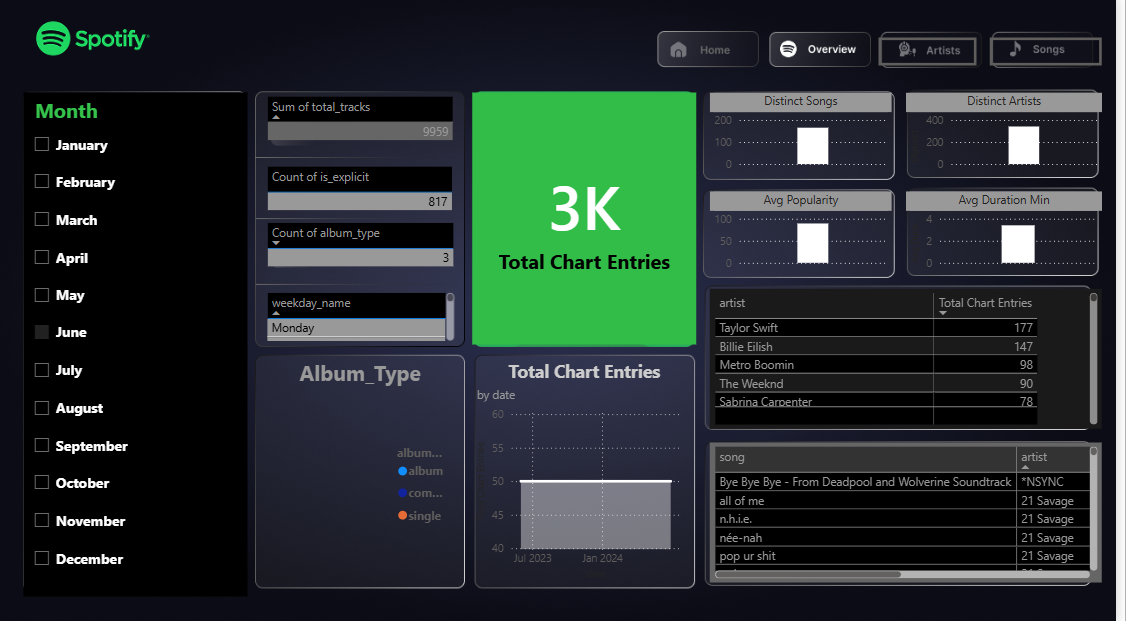

The page's visual inventory and layout, read from the dashboard file:
{"tool":"powerbi","page":{"name":"Overview","canvas":[1280,720],"ordinal":1},"visuals":[{"type":"slicer","fields":{"Values":["dim_dates.month_name"]},"box":[32,112,256,576],"z":3000},{"type":"cardVisual","fields":{"Data":["_Measures.Total Chart Entries"]},"box":[544,112,256,288],"z":3001},{"type":"tableEx","fields":{"Values":["dim_songs.is_explicit"]},"box":[304,192,224,64],"z":3003},{"type":"tableEx","fields":{"Values":["dim_songs.album_type"]},"box":[304,256,224,64],"z":3004},{"type":"donutChart","title":"Album_Type","fields":{"Category":["dim_songs.album_type"]},"box":[304,416,224,256],"z":3006},{"type":"areaChart","fields":{"Category":["dim_dates.date"],"Y":["_Measures.Total Chart Entries"]},"box":[544,416,256,256],"z":3008},{"type":"clusteredColumnChart","fields":{"Y":["_Measures.Distinct Artists"]},"box":[1040,112,224,96],"z":3009},{"type":"clusteredColumnChart","fields":{"Y":["_Measures.Avg Popularity"]},"box":[816,224,208,96],"z":3010},{"type":"clusteredColumnChart","fields":{"Y":["_Measures.Avg Duration Min"]},"box":[1040,224,224,96],"z":3011},{"type":"tableEx","fields":{"Values":["dim_songs.song","dim_songs.artist","dim_songs.album_type","dim_songs.duration_ms"]},"box":[816,512,448,160],"z":3013},{"type":"tableEx","fields":{"Values":["dim_songs.artist","_Measures.Total Chart Entries"]},"box":[816,336,448,160],"z":3014},{"type":"clusteredColumnChart","fields":{"Y":["_Measures.Distinct Songs"]},"box":[816,112,208,96],"z":3015},{"type":"tableEx","fields":{"Values":["dim_songs.total_tracks"]},"box":[304,112,224,64],"z":3016},{"type":"tableEx","fields":{"Values":["dim_dates.weekday_name"]},"box":[304,336,224,64],"z":3017},{"type":"actionButton","box":[768,48,96,32],"z":3018},{"type":"actionButton","box":[1008,48,112,32],"z":3019},{"type":"actionButton","box":[1136,48,128,32],"z":3020}]}

Visuals, with their boxes in screenshot pixels (x1, y1, x2, y2), scaled from the page's 1280x720 canvas onto the 1128x621 screenshot:
slicer - dim_dates.month_name: [x1=28, y1=97, x2=254, y2=593]
cardVisual - _Measures.Total Chart Entries: [x1=479, y1=97, x2=705, y2=345]
tableEx - dim_songs.is_explicit: [x1=268, y1=166, x2=465, y2=221]
tableEx - dim_songs.album_type: [x1=268, y1=221, x2=465, y2=276]
"Album_Type" donutChart: [x1=268, y1=359, x2=465, y2=580]
areaChart - dim_dates.date x _Measures.Total Chart Entries: [x1=479, y1=359, x2=705, y2=580]
clusteredColumnChart - _Measures.Distinct Artists: [x1=916, y1=97, x2=1114, y2=179]
clusteredColumnChart - _Measures.Avg Popularity: [x1=719, y1=193, x2=902, y2=276]
clusteredColumnChart - _Measures.Avg Duration Min: [x1=916, y1=193, x2=1114, y2=276]
tableEx - dim_songs.song x dim_songs.artist: [x1=719, y1=442, x2=1114, y2=580]
tableEx - dim_songs.artist x _Measures.Total Chart Entries: [x1=719, y1=290, x2=1114, y2=428]
clusteredColumnChart - _Measures.Distinct Songs: [x1=719, y1=97, x2=902, y2=179]
tableEx - dim_songs.total_tracks: [x1=268, y1=97, x2=465, y2=152]
tableEx - dim_dates.weekday_name: [x1=268, y1=290, x2=465, y2=345]
actionButton: [x1=677, y1=41, x2=761, y2=69]
actionButton: [x1=888, y1=41, x2=987, y2=69]
actionButton: [x1=1001, y1=41, x2=1114, y2=69]
